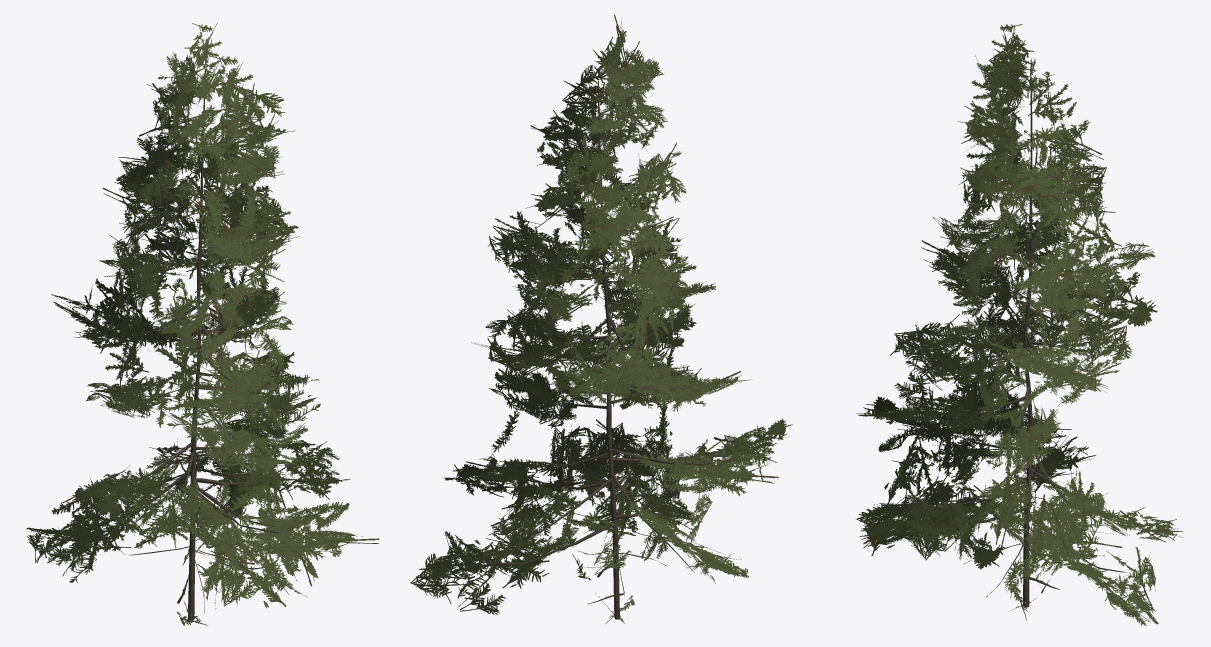
3 renders of one model, left to right at view 1: azimuth 30°, elevation 25°; view 2: azimuth 150°, elevation 25°; view 3: azimuth 270°, elevation 25°, orthographic. The views are drawn at different scales.
Parts seen in each view (by area): view 1: fir_sapling_medium__b_lod2; view 2: fir_sapling_medium__b_lod2; view 3: fir_sapling_medium__b_lod2.
Part boxes in pixels (bbox=[...]): fir_sapling_medium__b_lod2: bbox=[26, 23, 379, 625]; fir_sapling_medium__b_lod2: bbox=[410, 15, 792, 623]; fir_sapling_medium__b_lod2: bbox=[856, 24, 1182, 625].
Bounding box in the file's own units: 4.37 × 7.9 × 4.25.
2 materials, 2 textured.
